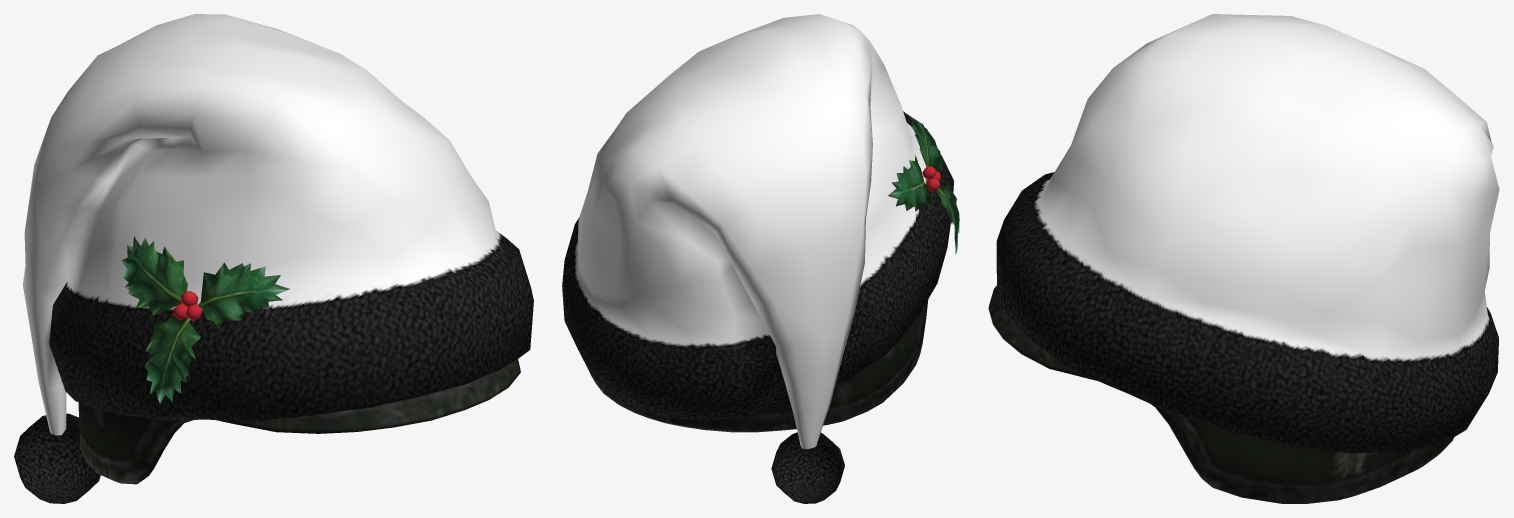
File: SurvivorMale_Head_Helmet_TacticalSantaHolly_LOD0.glb
3 renders of one model, left to right at view 1: azimuth 30°, elevation 25°; view 2: azimuth 150°, elevation 25°; view 3: azimuth 270°, elevation 25°, orthographic. The views are drawn at different scales.
Visible parts, largest first — view 1: Hoodie; view 2: Hoodie; view 3: Hoodie.
Part boxes in pixels (left/top/right/bottom): Hoodie: left=14, top=14, right=533, bottom=503; Hoodie: left=562, top=14, right=959, bottom=503; Hoodie: left=988, top=14, right=1499, bottom=503.
Size of the model in its own units: 0.2289 by 0.2674 by 0.2778.
Materials: 1 (1 with a texture image).
